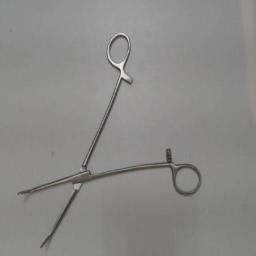Lahey Forceps: (16, 28, 206, 256)
